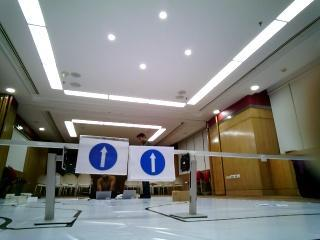straight: (79, 132, 126, 173), (129, 143, 175, 182)
